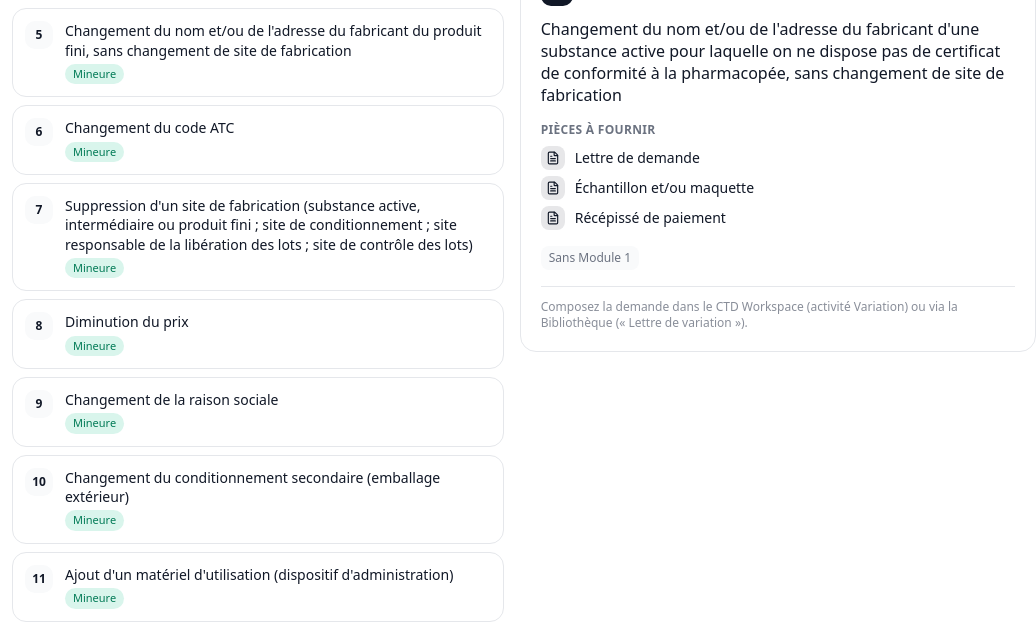
VariationsPage (encyclopédie) › sélectionner une variation montre sa note (n°8 = lettre seule)
The image size is (1036, 630).
(page scrolled)
Click the text "Diminution du prix": x=127, y=322 [65,312,189,331]
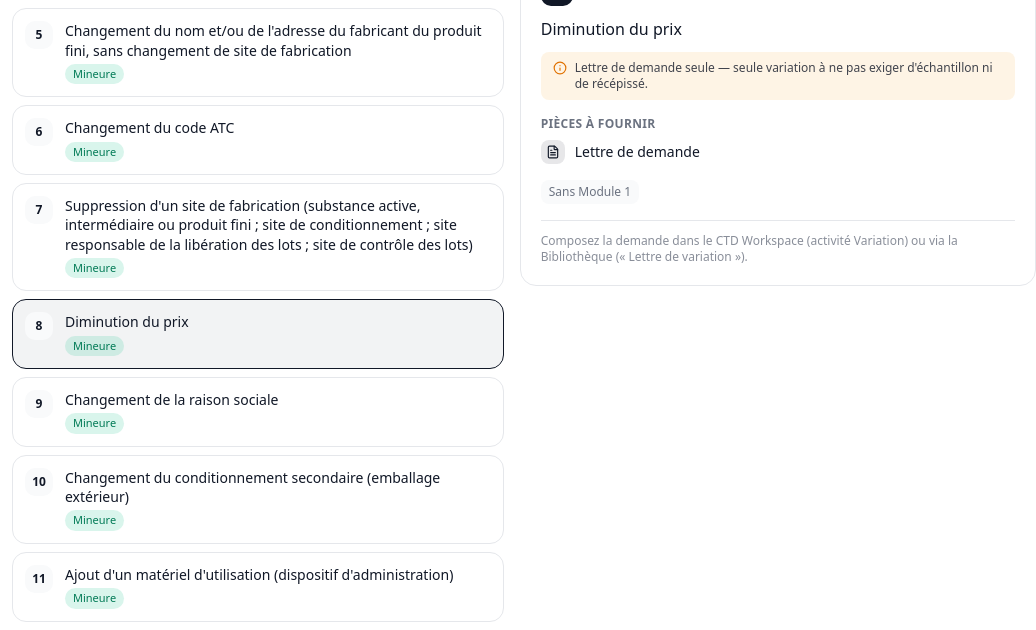
Now the text "seule variation à ne pas exiger" is shown, box [575,59,993,92]
